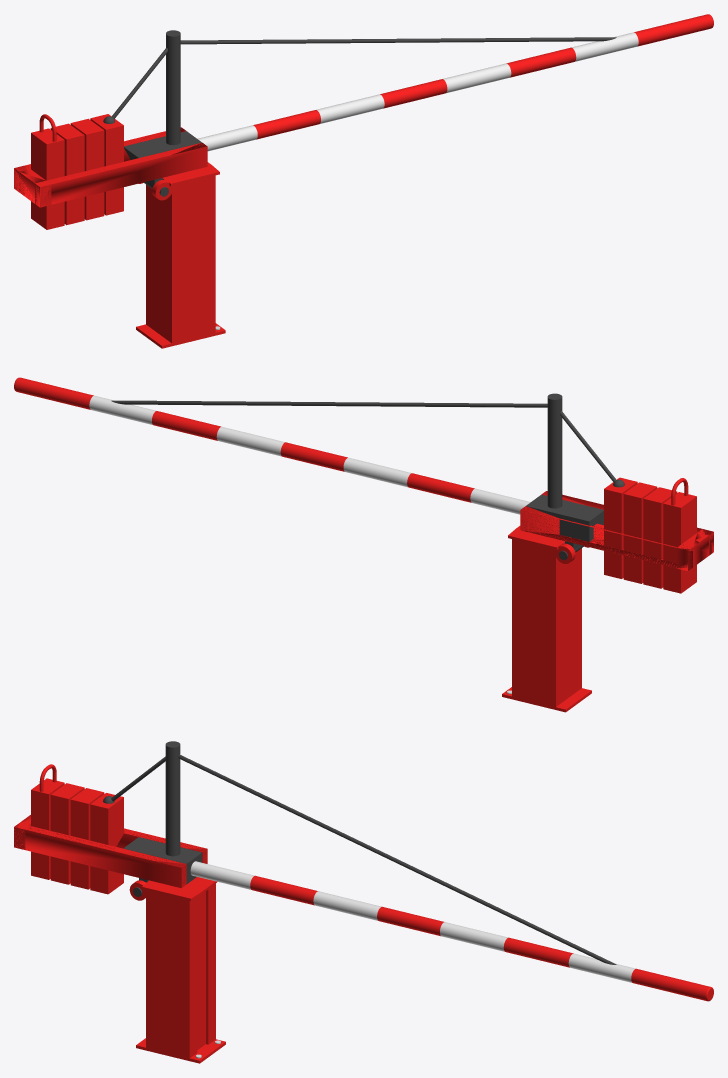
Rendered from BoomGate.FBX.
3 views of the same model, one above another, from view 1: azimuth 30°, elevation 25°; view 2: azimuth 150°, elevation 25°; view 3: azimuth 330°, elevation 25° (orthographic).
Parts seen in each view (by area): view 1: Box01, Box03, Group01, Cylinder05, Line02, Box06, Box04, Box05, Cylinder04, Box02, Box07; view 2: Box01, Group01, Cylinder05, Box03, Box06, Line02, Box04, Box05, Box02, Box07, Cylinder04; view 3: Box01, Box03, Group01, Cylinder05, Line02, Box02, Cylinder04, Box05, Box04, Box06, Box07.
Part boxes in pixels (x1,y1,x2,y2): Box01: [136, 162, 225, 348]; Box03: [14, 127, 207, 207]; Group01: [166, 14, 713, 139]; Cylinder05: [197, 32, 638, 151]; Line02: [111, 37, 616, 118]; Box06: [31, 128, 64, 229]; Box04: [70, 118, 104, 220]; Box05: [50, 123, 84, 225]; Cylinder04: [166, 39, 180, 145]; Box02: [90, 114, 123, 215]; Box07: [124, 131, 201, 186]; Box01: [502, 526, 591, 712]; Group01: [14, 377, 562, 502]; Cylinder05: [89, 395, 530, 514]; Box03: [520, 491, 713, 570]; Box06: [663, 492, 696, 593]; Line02: [111, 400, 616, 482]; Box04: [623, 482, 657, 583]; Box05: [643, 487, 677, 588]; Box02: [604, 477, 637, 578]; Box07: [526, 494, 603, 549]; Cylinder04: [547, 403, 562, 508]; Box01: [136, 877, 225, 1063]; Box03: [14, 815, 207, 888]; Group01: [165, 741, 713, 1001]; Cylinder05: [190, 861, 635, 982]; Line02: [111, 754, 616, 964]; Box02: [90, 793, 123, 894]; Cylinder04: [165, 750, 180, 856]; Box05: [50, 783, 84, 884]; Box04: [70, 788, 104, 889]; Box06: [31, 778, 64, 879]; Box07: [123, 837, 202, 883].
Size of the model in its own units: 83571 by 6167 by 35104.
